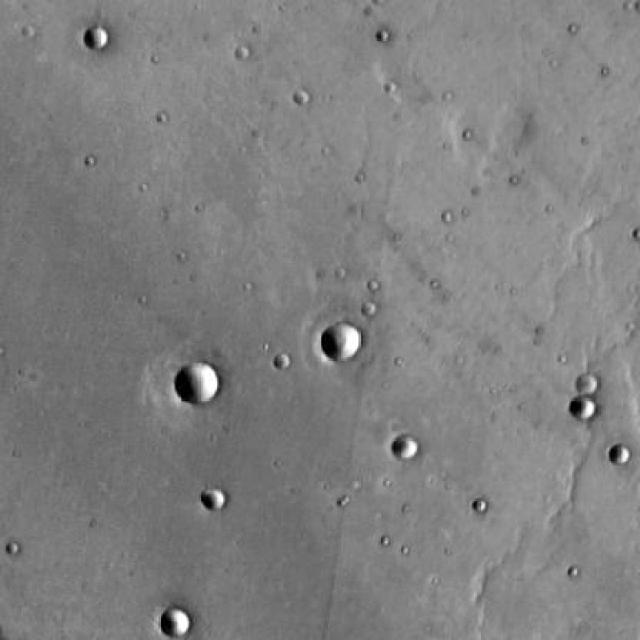crater: (175, 362, 218, 402), (322, 324, 362, 361), (84, 26, 110, 51), (162, 609, 189, 633), (612, 444, 634, 471), (576, 378, 599, 400), (570, 396, 593, 418), (200, 487, 222, 507), (394, 436, 415, 456), (273, 352, 292, 370)
